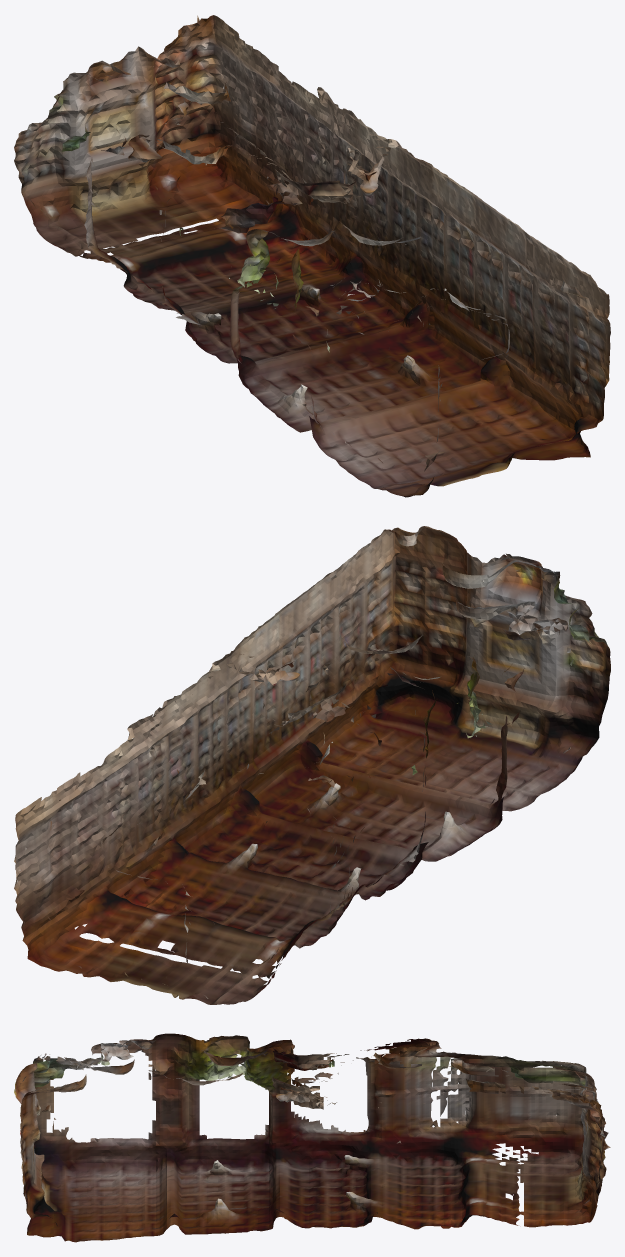
The model's file is elegant_library_with_fireplace_collider.glb.
3 views of the same model, one above another, from view 1: azimuth 30°, elevation 25°; view 2: azimuth 150°, elevation 25°; view 3: azimuth 270°, elevation 25° (orthographic). The views are drawn at different scales.
Visible parts, largest first — view 1: world; view 2: world; view 3: world.
Part boxes in pixels (<box>): world: <box>14,15,610,497</box>; world: <box>14,526,610,1004</box>; world: <box>14,1033,610,1242</box>.
Bounding box in the file's own units: 3.88 × 2.96 × 11.35.
